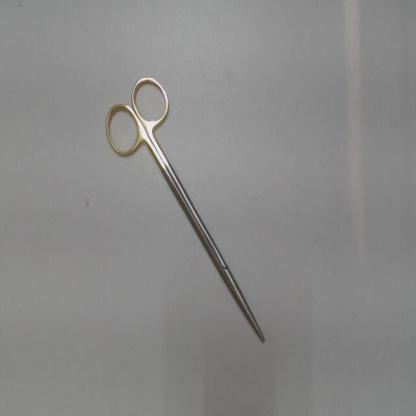7 Metzenbaum Scissors: (100, 70, 270, 350)
